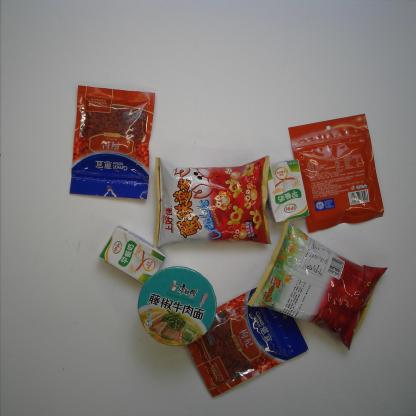Dried Fruit: (184, 285, 309, 399), (287, 113, 385, 234), (68, 84, 156, 201)
Instant Noodles: (136, 266, 218, 348)
Milk: (97, 225, 167, 285), (266, 158, 311, 224)
Puffed Food: (246, 218, 389, 352), (153, 154, 274, 248)
